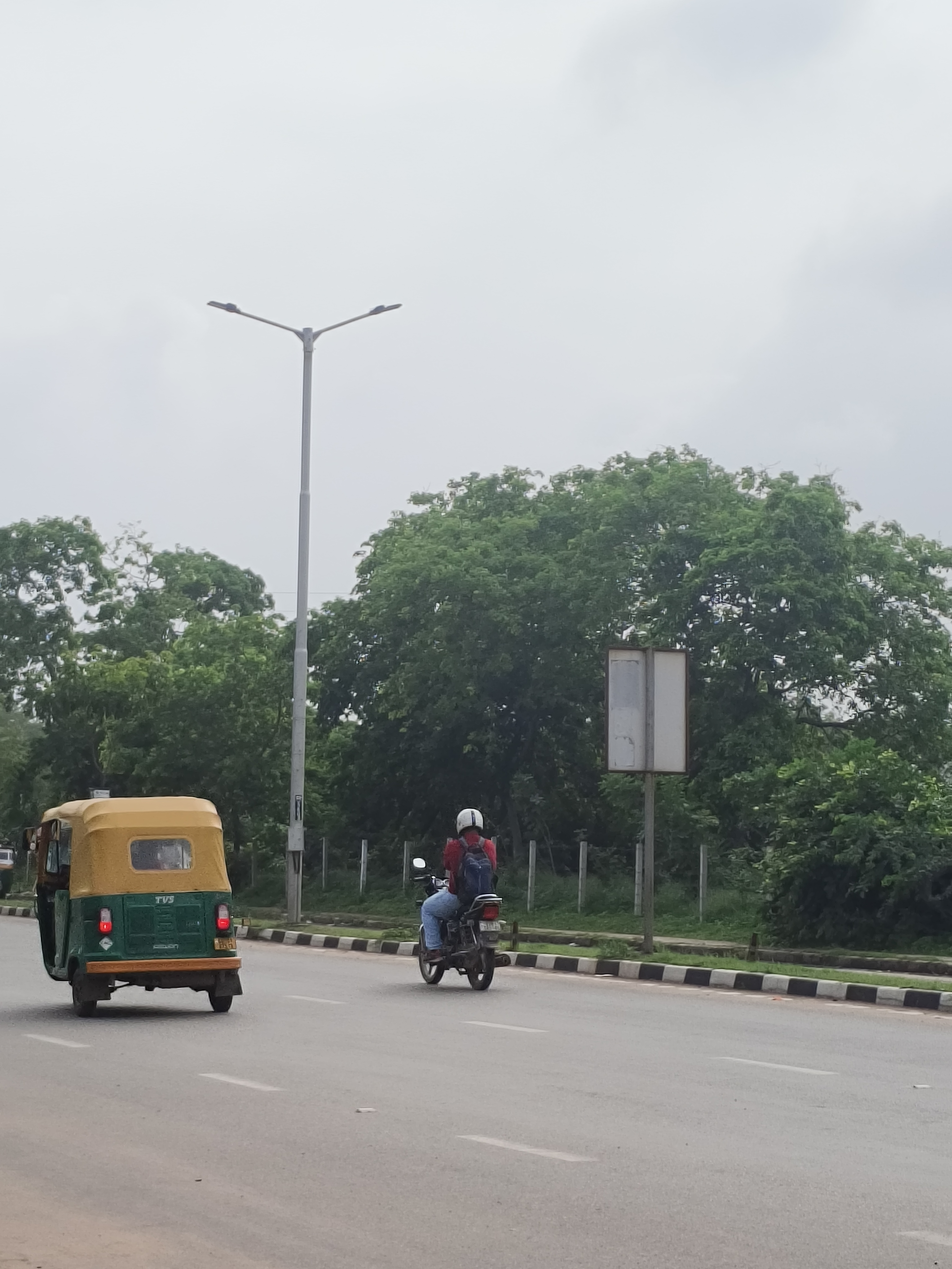BikeWithRider: (387, 796, 536, 1002)
Helmet: (444, 796, 500, 848)
